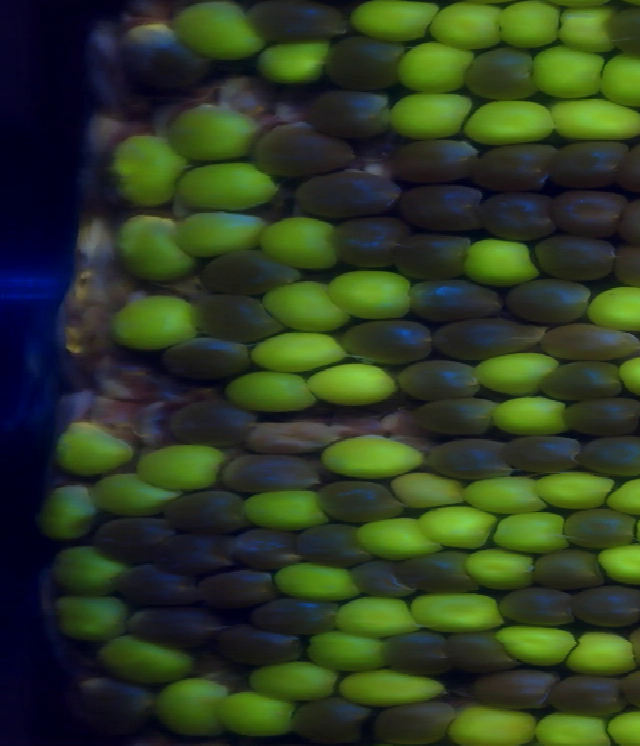fluorescent: (105, 137, 189, 203), (171, 1, 265, 58), (171, 168, 291, 212), (110, 295, 199, 353), (218, 367, 324, 415), (303, 360, 403, 410), (87, 637, 194, 683), (150, 678, 239, 733), (113, 216, 193, 276), (169, 111, 263, 162), (325, 268, 413, 322), (236, 488, 339, 534), (51, 589, 138, 643), (381, 38, 473, 89), (317, 437, 423, 481), (134, 443, 233, 490), (388, 94, 482, 143), (472, 346, 563, 396), (266, 277, 352, 329), (273, 559, 368, 606), (466, 97, 553, 148), (525, 44, 607, 98), (339, 671, 458, 708), (251, 328, 357, 368), (86, 469, 182, 513), (267, 214, 338, 273), (547, 98, 640, 143), (248, 660, 349, 701), (408, 593, 505, 635), (34, 488, 104, 546), (492, 393, 573, 443), (427, 1, 506, 52), (58, 422, 135, 474), (220, 690, 303, 738), (352, 516, 445, 558), (417, 506, 499, 553), (493, 623, 578, 668), (443, 704, 533, 746), (461, 238, 542, 284), (560, 628, 638, 675), (487, 509, 570, 553), (336, 598, 426, 638), (553, 2, 622, 54), (493, 1, 563, 51), (171, 216, 271, 251), (355, 1, 439, 42), (48, 547, 125, 590), (463, 477, 550, 515), (535, 472, 619, 511), (307, 631, 400, 666), (256, 41, 331, 82), (578, 286, 640, 332), (533, 709, 609, 746), (469, 552, 537, 592), (586, 545, 640, 591), (395, 471, 463, 505), (598, 55, 640, 106), (608, 476, 640, 515), (610, 707, 640, 746)
nonfluorescent: (118, 23, 212, 91), (295, 174, 408, 221), (74, 676, 171, 728), (460, 47, 541, 108), (325, 37, 414, 91), (188, 291, 286, 340), (194, 249, 302, 293), (437, 316, 540, 362), (255, 126, 360, 171), (155, 334, 258, 378), (400, 183, 487, 234), (165, 399, 259, 446), (542, 317, 640, 362), (241, 3, 352, 42), (311, 478, 402, 525), (303, 91, 398, 136), (332, 219, 412, 272), (110, 563, 210, 605), (399, 279, 505, 318), (508, 277, 595, 324), (217, 452, 321, 491), (475, 190, 561, 237), (348, 317, 435, 363), (474, 141, 556, 189), (551, 137, 628, 188), (548, 186, 628, 235), (161, 487, 248, 532), (397, 548, 480, 594), (548, 674, 629, 720), (373, 703, 461, 745), (294, 701, 378, 745), (375, 628, 452, 676), (539, 356, 624, 399), (473, 668, 559, 710), (217, 624, 301, 667), (186, 571, 285, 607), (158, 530, 234, 574), (535, 233, 614, 275), (250, 594, 335, 633), (501, 435, 592, 471), (414, 397, 502, 434), (498, 586, 581, 625), (392, 235, 475, 274), (398, 363, 485, 400), (102, 516, 180, 557), (300, 525, 382, 564), (564, 506, 638, 549), (132, 607, 220, 643), (559, 395, 640, 434), (536, 548, 608, 590), (431, 441, 514, 477), (571, 586, 640, 629), (439, 633, 515, 672), (234, 524, 299, 567), (352, 557, 414, 597), (574, 438, 640, 474), (609, 5, 640, 55)
